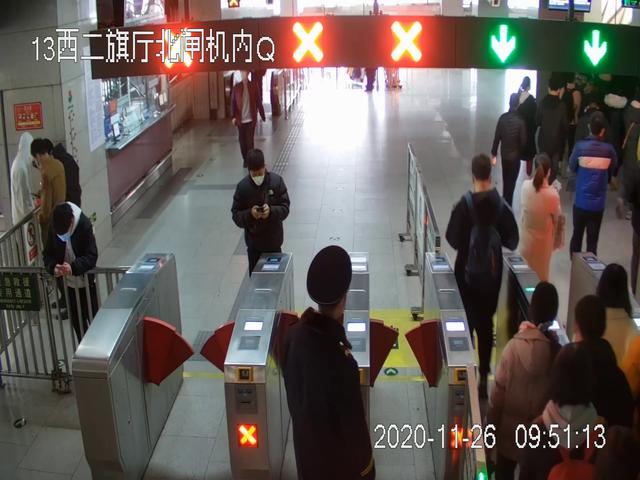person: (284, 245, 377, 480), (444, 154, 520, 401), (488, 281, 581, 480), (546, 295, 640, 480), (44, 203, 99, 379), (231, 150, 291, 290), (521, 153, 569, 313), (567, 114, 615, 260), (8, 132, 47, 306), (491, 93, 528, 210), (232, 68, 267, 167)
